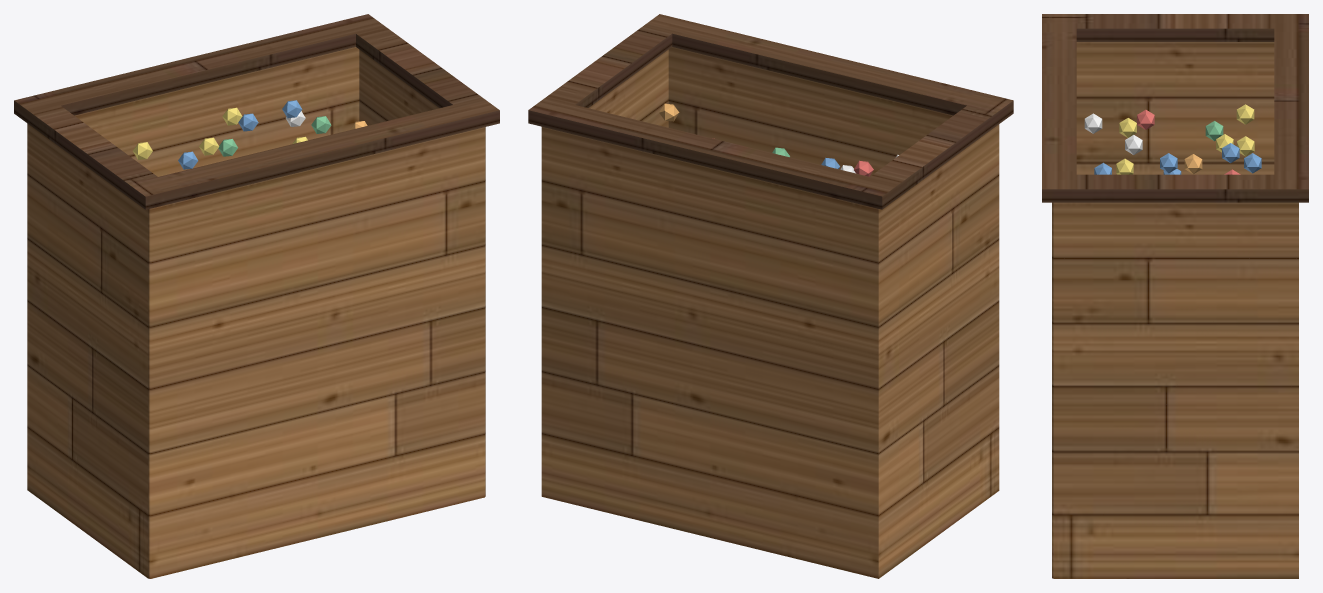
File: ball_bin.glb
3 views of the same model, side by side, from view 1: azimuth 30°, elevation 25°; view 2: azimuth 150°, elevation 25°; view 3: azimuth 270°, elevation 25° (orthographic).
Visible parts, largest first — view 1: ball_bin_wood, ball_bin_dkwood, ball_bin_flag_y, ball_bin_flag_b; view 2: ball_bin_wood, ball_bin_dkwood; view 3: ball_bin_wood, ball_bin_dkwood, ball_bin_flag_y, ball_bin_flag_b, ball_bin_ball.
Part boxes in pixels (x1=…): ball_bin_wood: x1=27, y1=47, x2=485, y2=578; ball_bin_dkwood: x1=14, y1=14, x2=499, y2=209; ball_bin_flag_y: x1=133, y1=107, x2=307, y2=159; ball_bin_flag_b: x1=178, y1=100, x2=302, y2=169; ball_bin_wood: x1=541, y1=47, x2=999, y2=578; ball_bin_dkwood: x1=528, y1=14, x2=1013, y2=209; ball_bin_wood: x1=1052, y1=42, x2=1298, y2=578; ball_bin_dkwood: x1=1042, y1=14, x2=1308, y2=202; ball_bin_flag_y: x1=1116, y1=104, x2=1254, y2=174; ball_bin_flag_b: x1=1094, y1=143, x2=1261, y2=174; ball_bin_ball: x1=1084, y1=113, x2=1142, y2=154.
Size of the model in its own units: 0.84 by 0.88 by 0.54.
9 materials, 2 textured.
